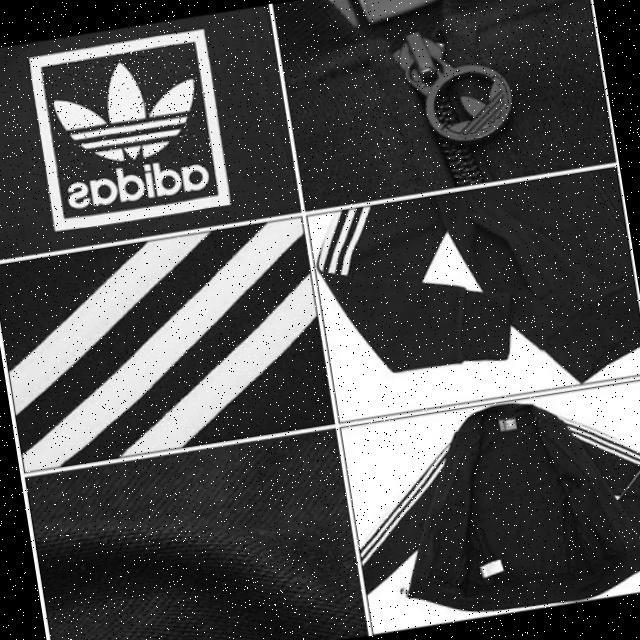Adidas: (35, 34, 217, 182)
